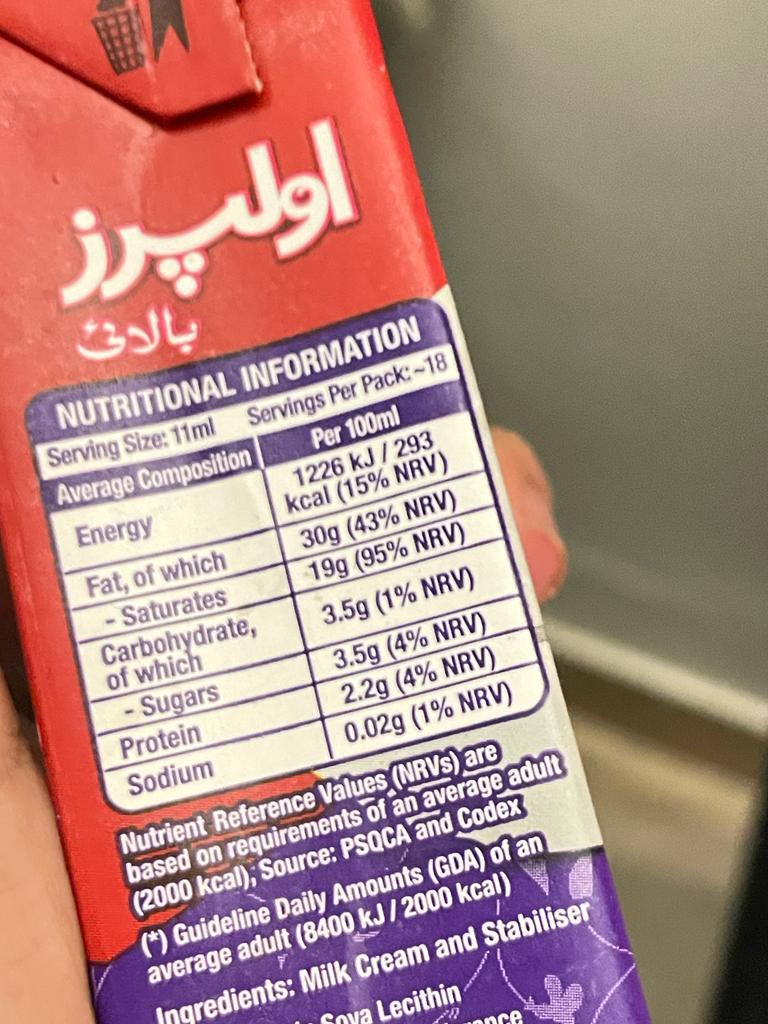table: (22, 302, 577, 804)
